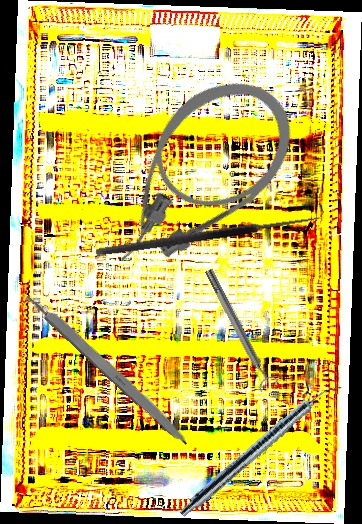Cannula: (70, 53, 319, 293)
Fixation Ring: (199, 264, 280, 394)
Handpiece: (176, 374, 343, 524)
Hook Surgical: (93, 201, 326, 258)
Scalpel Handle: (24, 289, 193, 448)
